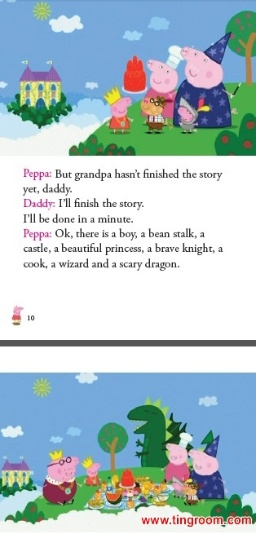Peppa: (100, 87, 134, 135), (79, 458, 103, 487)
